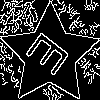E: (24, 30, 78, 84)
